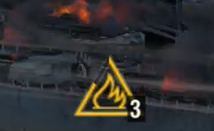3fire: (67, 79, 146, 124)
